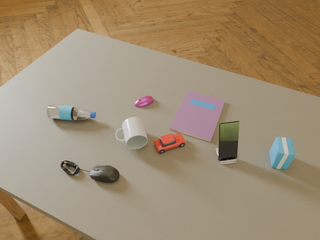book: (170, 91, 225, 142)
bottle: (47, 105, 96, 120)
box: (269, 137, 295, 169)
cup: (116, 117, 148, 149)
mouse: (90, 165, 119, 183), (135, 96, 154, 107)
phone: (218, 121, 239, 161)
toy_car: (154, 133, 185, 153)
